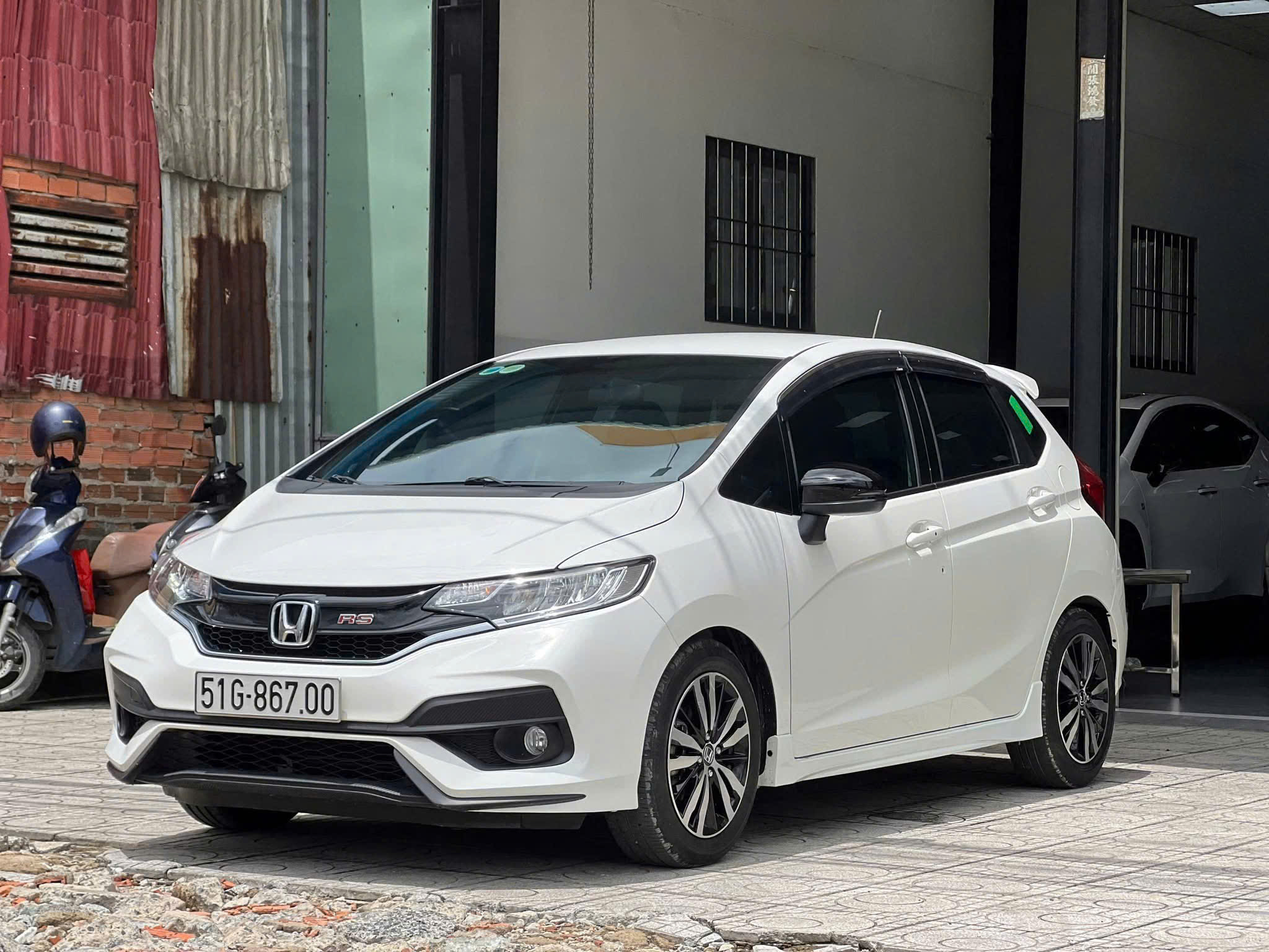Bien-so: (195, 672, 345, 727)
